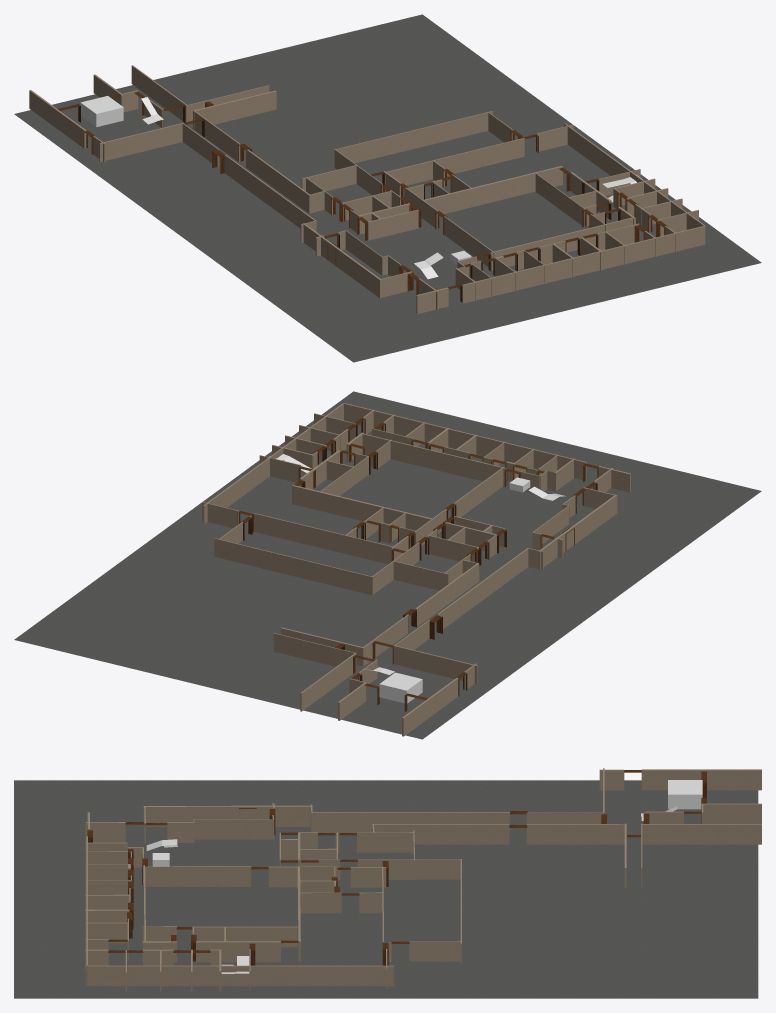
Rendered from ground.glb.
The picture shows the model from 3 angles, top to bottom: view 1: azimuth 30°, elevation 25°; view 2: azimuth 150°, elevation 25°; view 3: azimuth 270°, elevation 25°; orthographic projection. The views are drawn at different scales.
Visible parts, largest first — view 1: Plane, Walls, Cube.017, GoodsLift; view 2: Plane, Walls, Cube.017, GoodsLift; view 3: Plane, Walls, Cube.017, GoodsLift.
Boxes of the visible parts, box(x1,y1,x2,y2) form: Plane: box(14, 14, 761, 362); Walls: box(29, 65, 705, 313); Cube.017: box(58, 92, 668, 301); GoodsLift: box(80, 96, 123, 127); Plane: box(14, 391, 761, 739); Walls: box(202, 403, 630, 736); Cube.017: box(237, 418, 598, 711); GoodsLift: box(379, 672, 422, 703); Plane: box(14, 780, 758, 998); Walls: box(85, 768, 761, 992); Cube.017: box(87, 770, 706, 965); GoodsLift: box(668, 780, 702, 809).
Bounding box in the file's own units: 46.68 × 2.24 × 67.52.
Materials: 3 (3 with a texture image).
